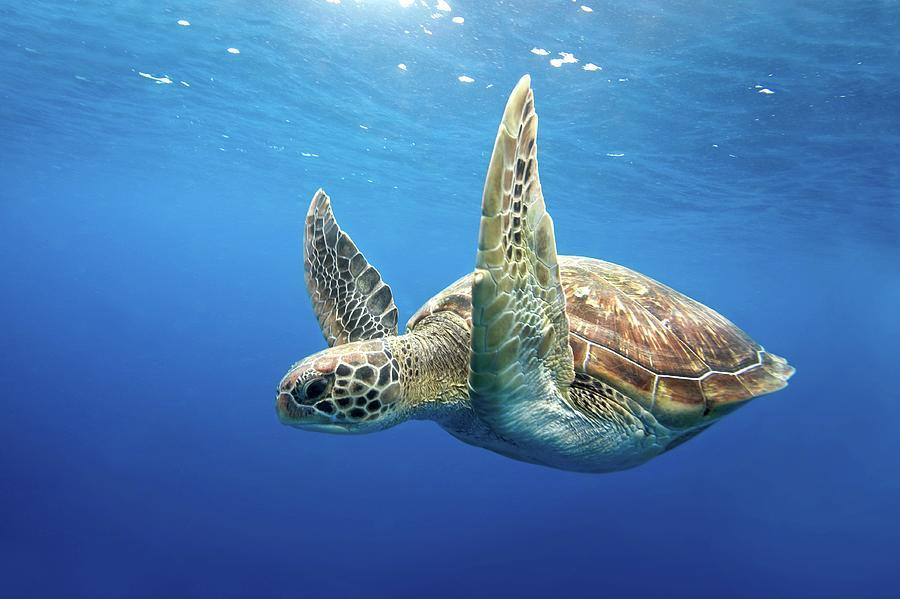turtle: (266, 335, 413, 443)
